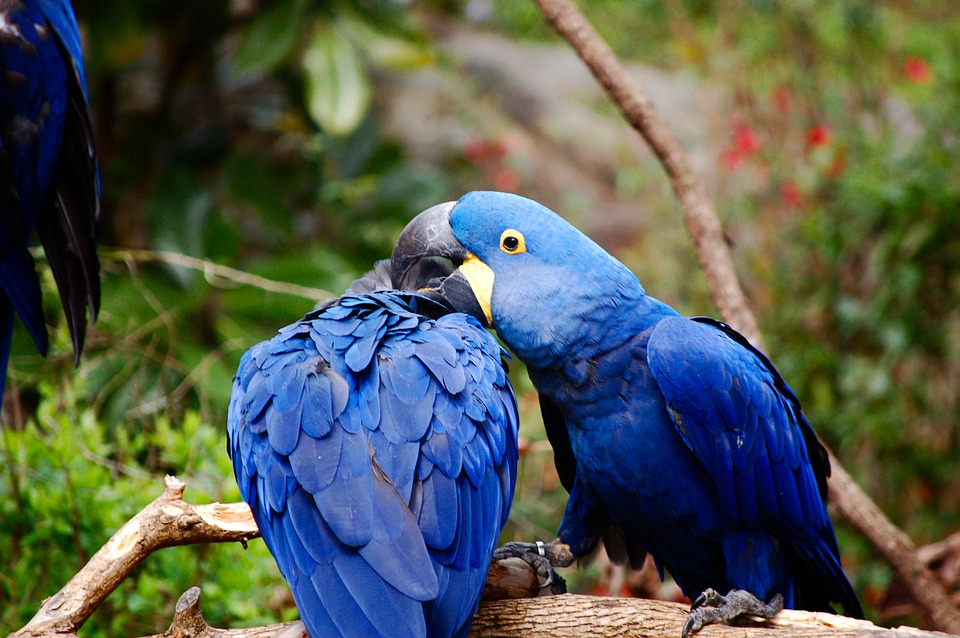guacamaya: (380, 150, 914, 638)
